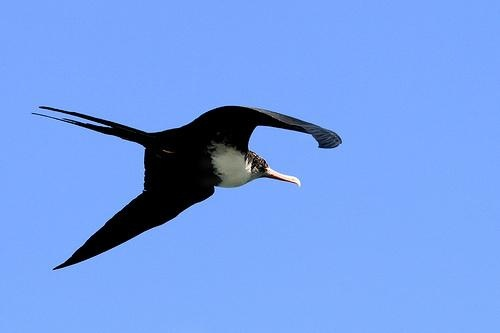bird: (29, 102, 342, 271)
